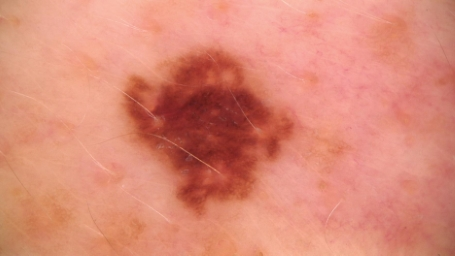nevus: (122, 46, 295, 215)
